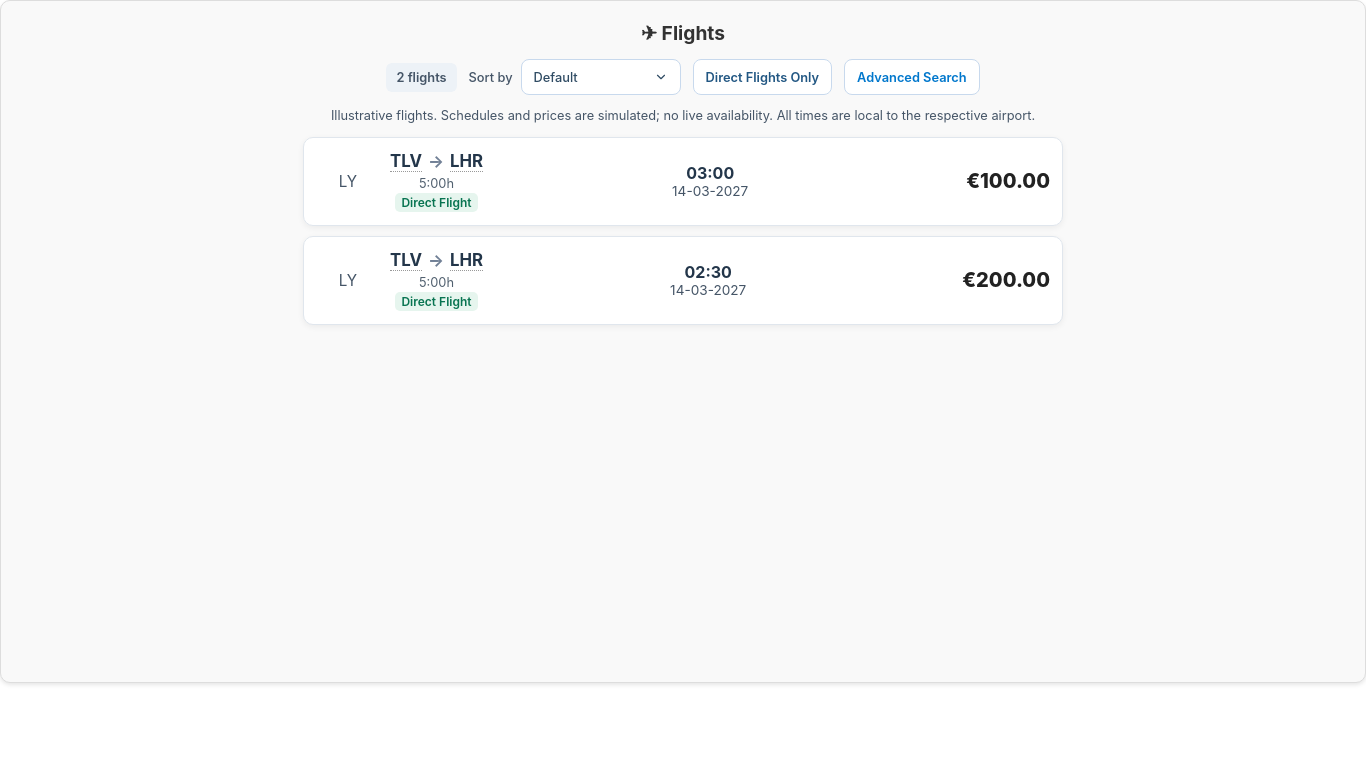
it: earliest departure uses the airport clock even across a browser DST gap
expect the text "€200.00" is shown: met, box 962,268 -> 1050,292
Select "Earliest departure" in the dropdown labelled "Sort by": (601, 77) 521,59 -> 681,95
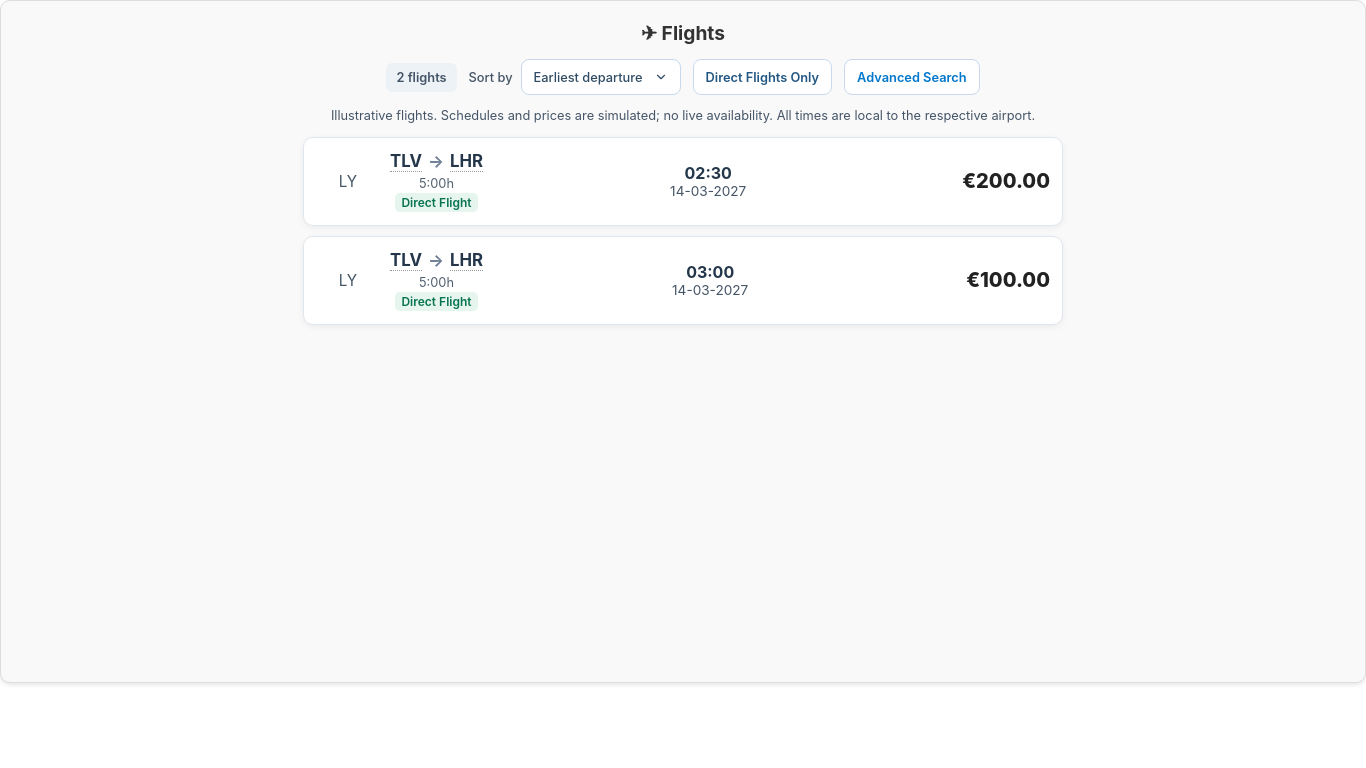
expect the text "€200.00" is shown: met, box 962,169 -> 1050,193
expect the text "02:30" is shown: met, box 684,163 -> 732,183
